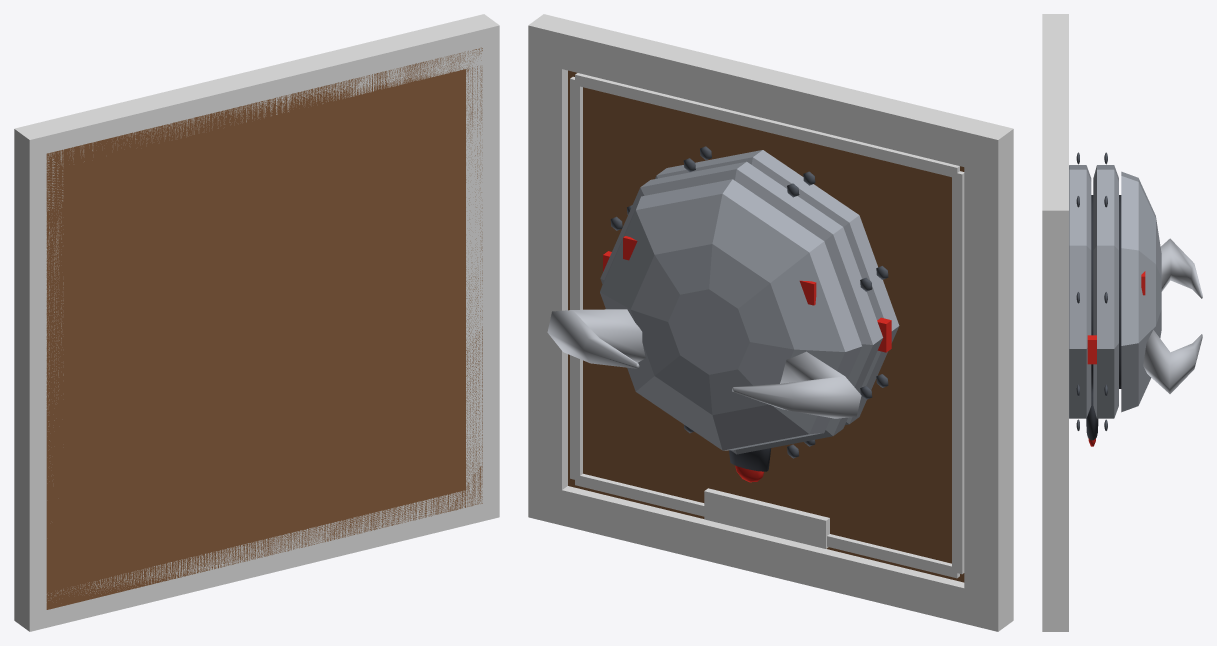
Rendered from destroyer_trophy_v0.glb.
3 views of the same model, side by side, from view 1: azimuth 30°, elevation 25°; view 2: azimuth 150°, elevation 25°; view 3: azimuth 270°, elevation 25° (orthographic). The views are drawn at different scales.
Parts seen in each view (by area): view 1: destroyer_trophy_v0; view 2: destroyer_trophy_v0; view 3: destroyer_trophy_v0.
Boxes of the visible parts, <box> form: destroyer_trophy_v0: <box>14,14,499,631</box>; destroyer_trophy_v0: <box>528,14,1013,631</box>; destroyer_trophy_v0: <box>1042,14,1202,631</box>.
Size of the model in its own units: 1.39 by 1.39 by 0.48.
